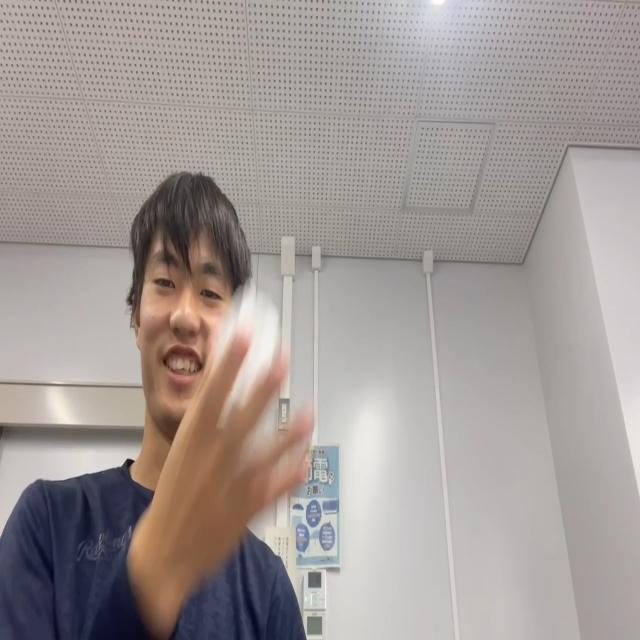paper: (213, 276, 281, 540)
